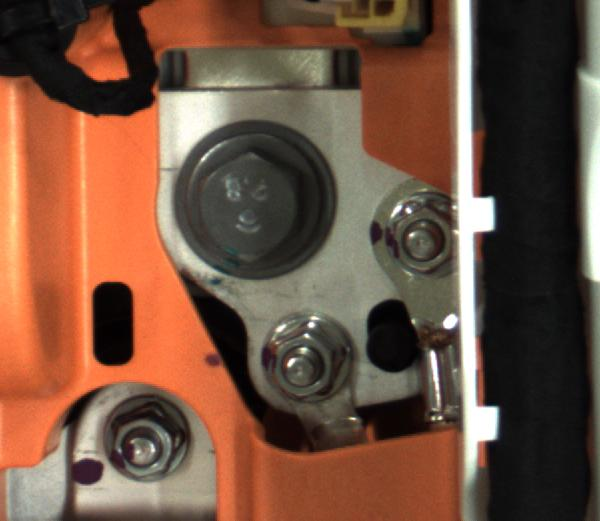nut_b: (178, 129, 326, 265)
screw_s: (256, 311, 348, 410), (101, 399, 191, 490), (375, 189, 456, 278)
